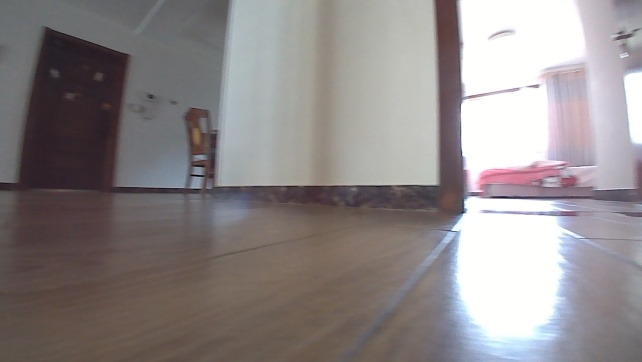bed1: (477, 158, 596, 201)
door_anno: (16, 24, 132, 189)
